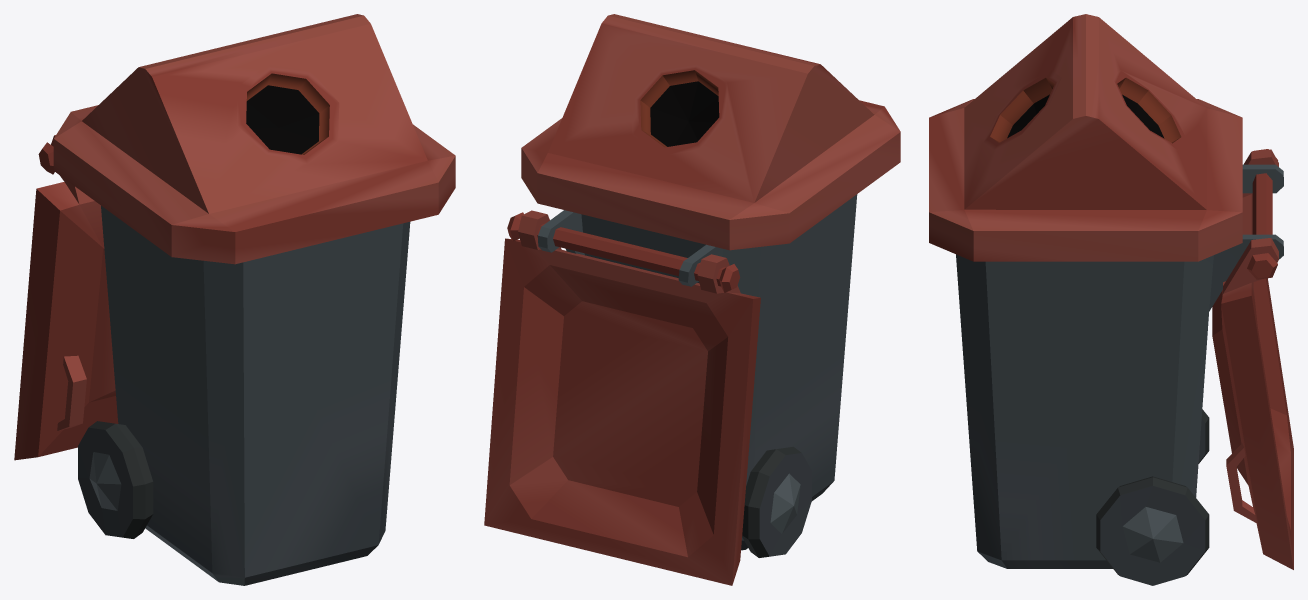
Rendered from SM_Prop_Rubbish_Bin_02.glb.
3 renders of one model, left to right at view 1: azimuth 30°, elevation 25°; view 2: azimuth 150°, elevation 25°; view 3: azimuth 270°, elevation 25°, orthographic. The views are drawn at different scales.
Visible parts, largest first — view 1: SM_Prop_Rubbish_Bin_02; view 2: SM_Prop_Rubbish_Bin_02; view 3: SM_Prop_Rubbish_Bin_02.
Part boxes in pixels (<box>): SM_Prop_Rubbish_Bin_02: <box>14,14,455,585</box>; SM_Prop_Rubbish_Bin_02: <box>484,14,900,585</box>; SM_Prop_Rubbish_Bin_02: <box>929,14,1293,585</box>.
Size of the model in its own units: 77.94 by 130 by 90.85.
Materials: 1 (1 with a texture image).
